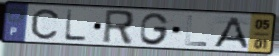A: (211, 16, 251, 50)
C: (30, 8, 61, 41)
G: (138, 12, 171, 47)
L: (62, 8, 89, 43), (184, 14, 209, 48)
R: (100, 8, 136, 46)
